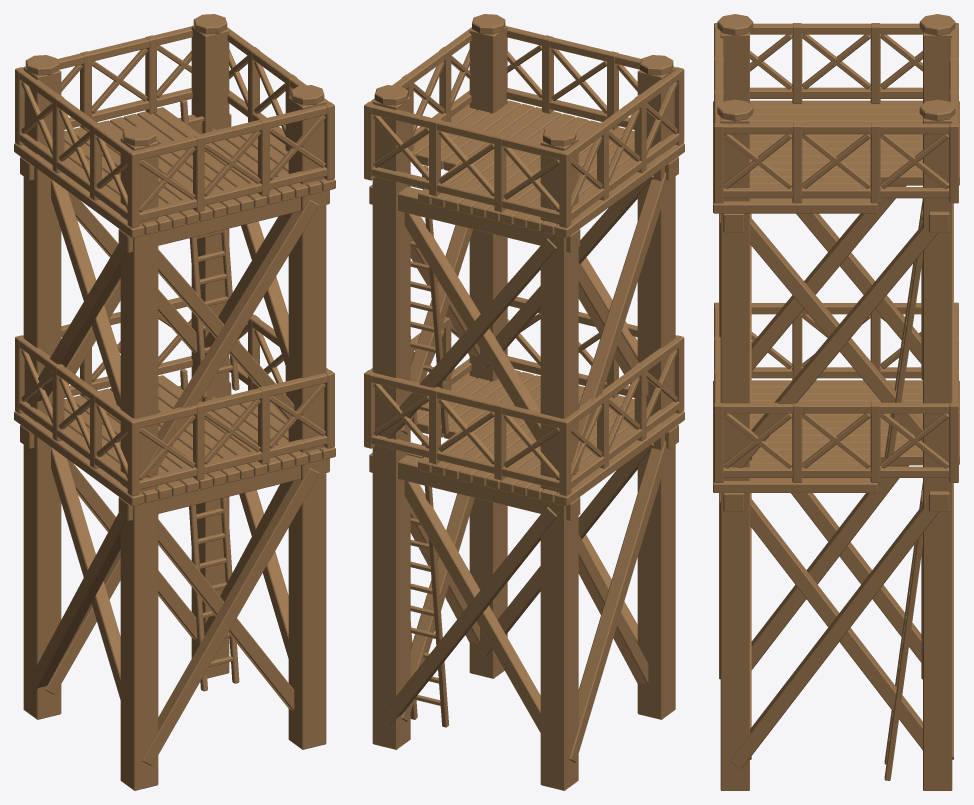
The model's file is tower.glb.
3 renders of one model, left to right at view 1: azimuth 30°, elevation 25°; view 2: azimuth 150°, elevation 25°; view 3: azimuth 270°, elevation 25°, orthographic. The views are drawn at different scales.
Parts seen in each view (by area): view 1: tower; view 2: tower; view 3: tower.
Part boxes in pixels (<box>): tower: <box>14,14,335,790</box>; tower: <box>364,14,684,790</box>; tower: <box>713,14,959,790</box>.
Bounding box in the file's own units: 2.99 × 9.1 × 3.
